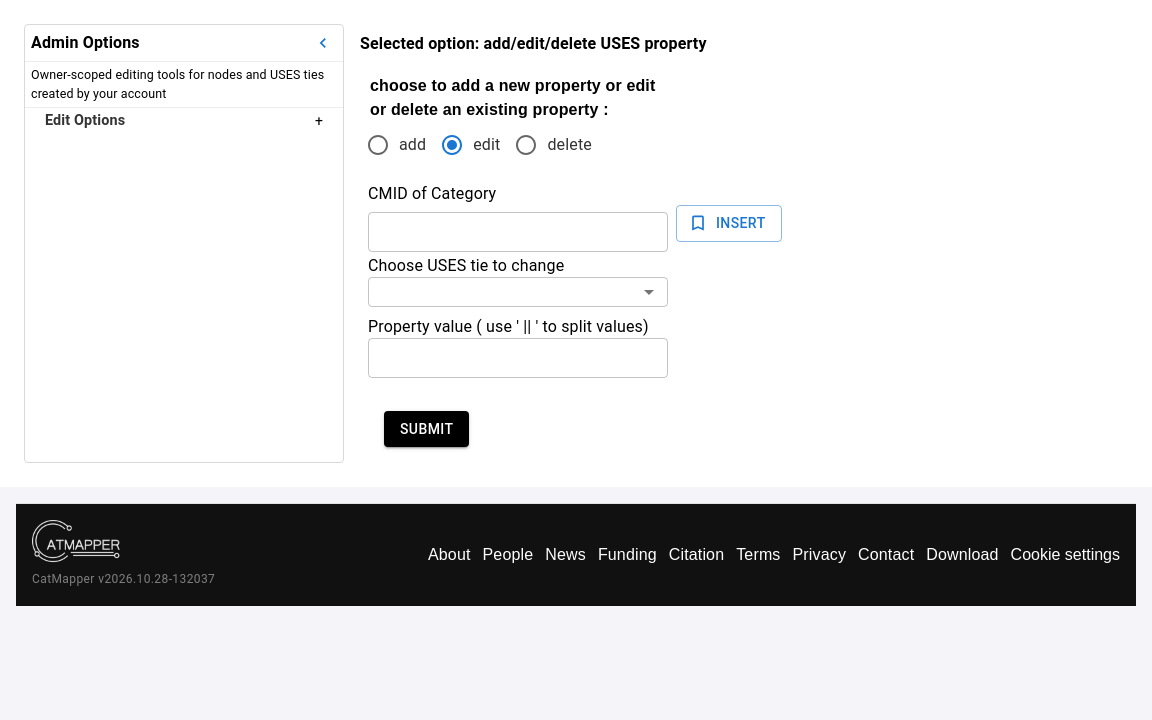
Scenario: Admin change user password flow › shows only owner-scoped edit tools for registered users
Click the button "Edit Options +" at (85, 121), box [29,108,339,134]
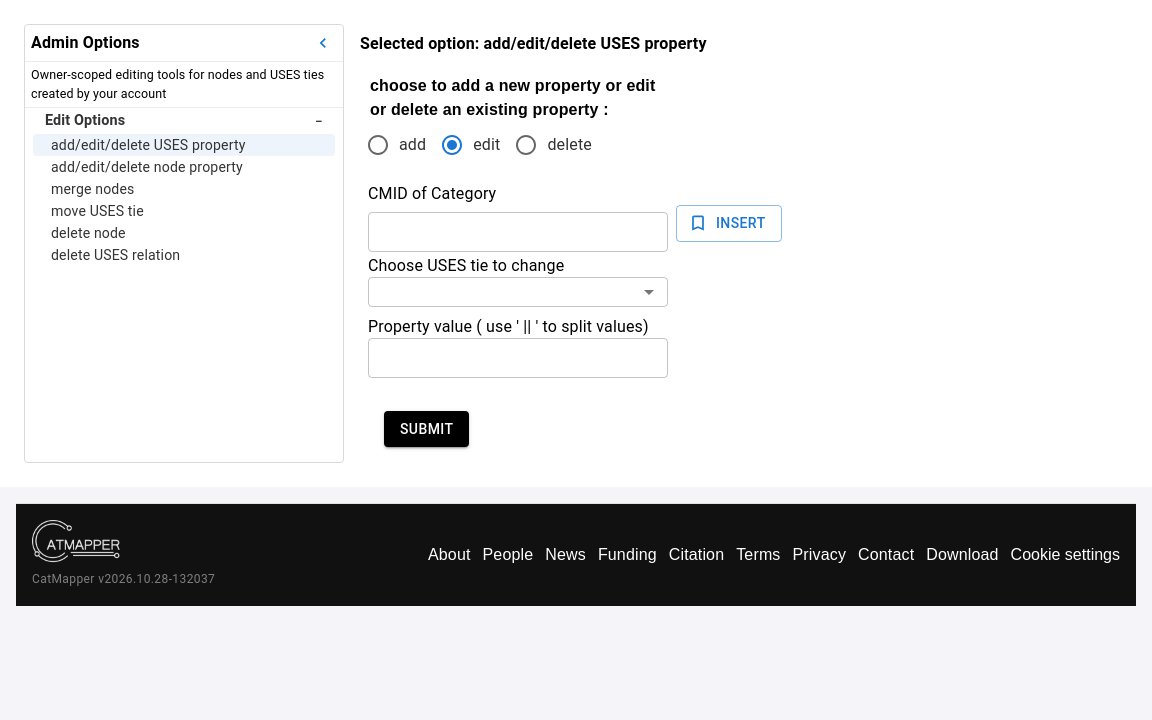
Expected: the text "add/edit/delete node property" is shown, [51,158,243,174]
Expected: the text "merge nodes" is shown, [51,180,134,196]
Expected: the text "delete node" is shown, [51,158,243,174]
